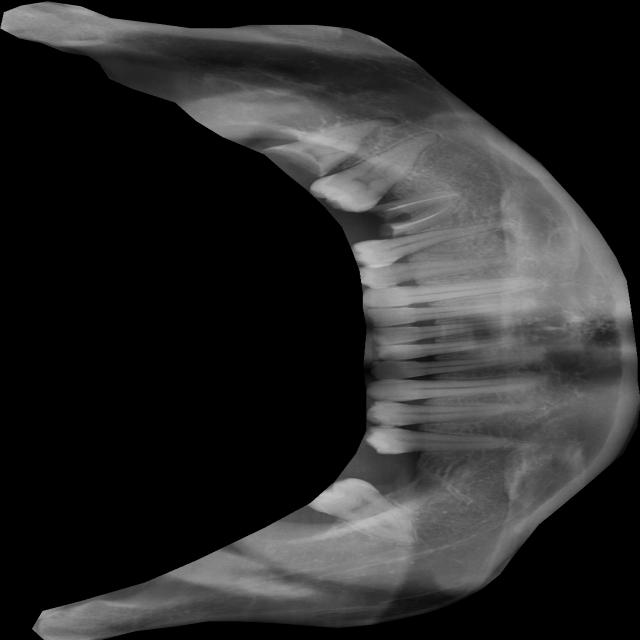mandibula: (0, 0, 640, 640)
